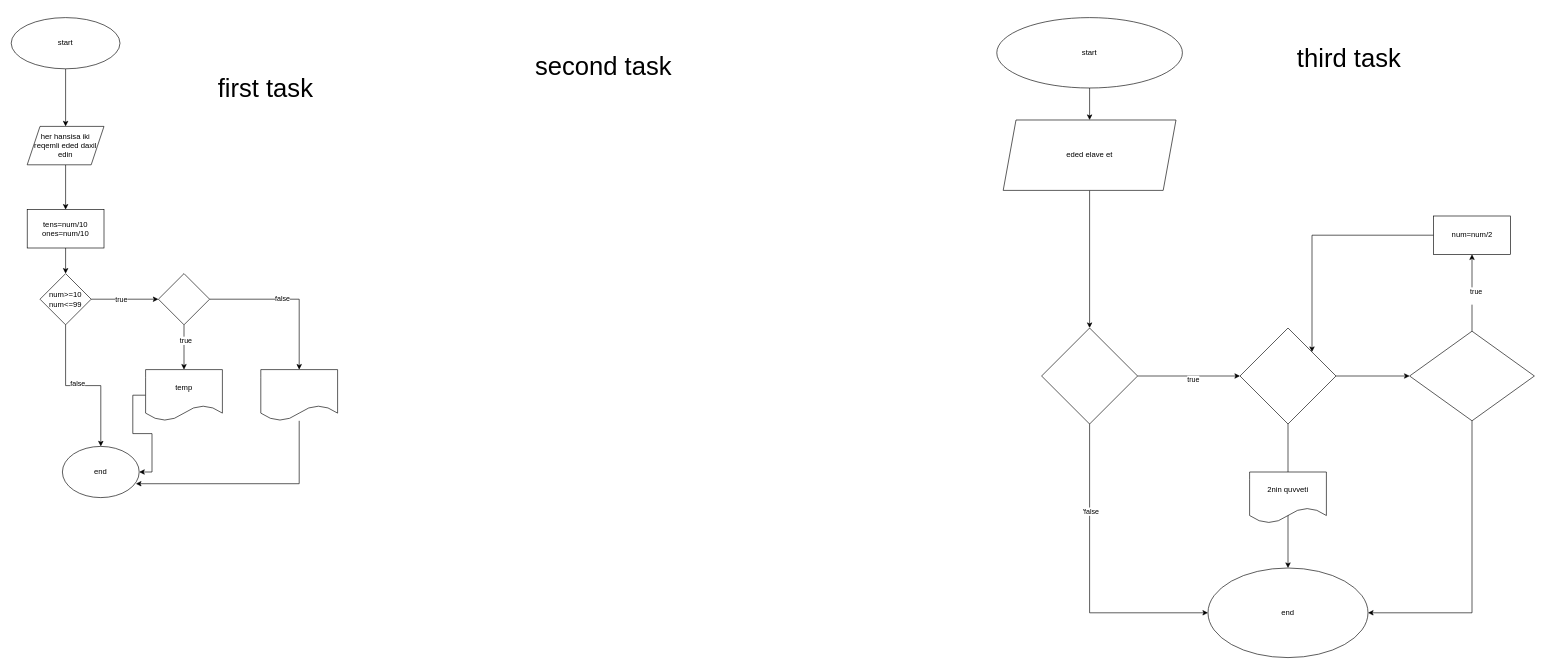
Image size: 1546x669. Some labels were removed from this diagram. Each missing label, with the box of its shape:
num%2==0: (1409, 331, 1534, 421)
num>1: (1239, 327, 1336, 424)
num>=0: (1041, 327, 1138, 424)
ones: (260, 369, 338, 421)
tens>ones: (158, 273, 210, 325)
